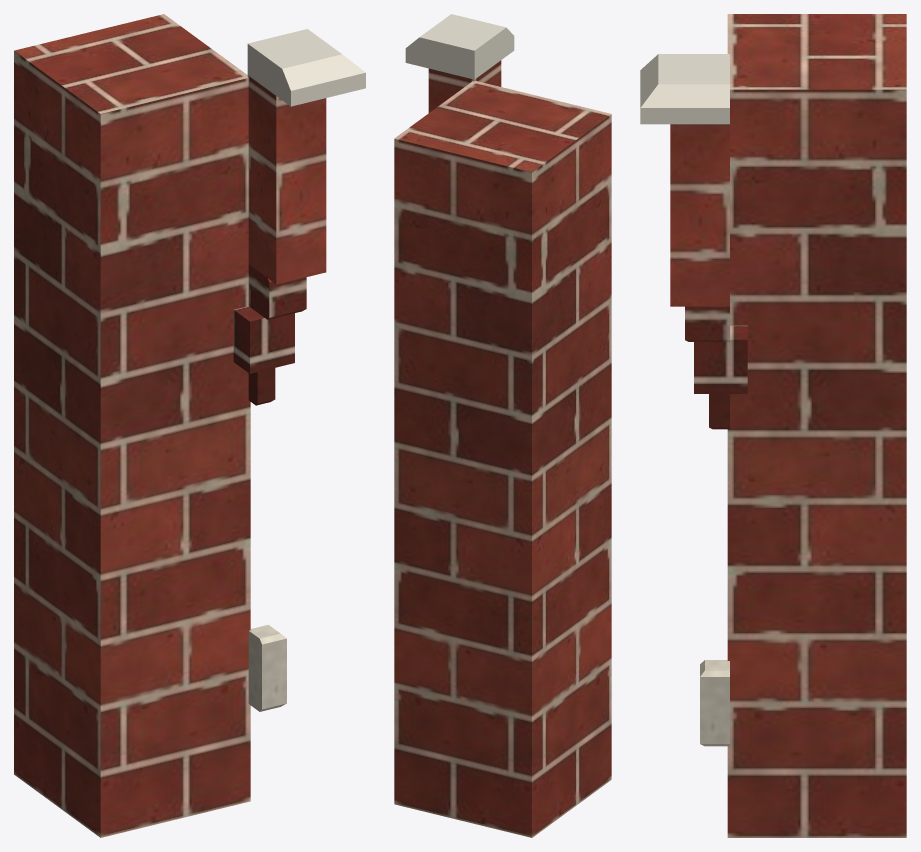
The model's file is back_corner_p.glb.
3 renders of one model, left to right at view 1: azimuth 30°, elevation 25°; view 2: azimuth 150°, elevation 25°; view 3: azimuth 270°, elevation 25°, orthographic. The views are drawn at different scales.
Visible parts, largest first — view 1: back_corner_p_brick, back_corner_p_brick2, back_corner_p_coping, back_corner_p_trim; view 2: back_corner_p_brick, back_corner_p_coping; view 3: back_corner_p_brick, back_corner_p_coping, back_corner_p_brick2, back_corner_p_trim.
Boxes of the visible parts, x1=… form: back_corner_p_brick: x1=14, y1=14, x2=326, y2=837; back_corner_p_brick2: x1=233, y1=264, x2=306, y2=405; back_corner_p_coping: x1=247, y1=29, x2=365, y2=106; back_corner_p_trim: x1=248, y1=624, x2=286, y2=711; back_corner_p_brick: x1=394, y1=60, x2=611, y2=837; back_corner_p_coping: x1=405, y1=14, x2=514, y2=79; back_corner_p_brick: x1=670, y1=14, x2=906, y2=837; back_corner_p_coping: x1=640, y1=54, x2=729, y2=124; back_corner_p_brick2: x1=685, y1=306, x2=747, y2=429; back_corner_p_trim: x1=700, y1=660, x2=729, y2=746.
Bounding box in the file's own units: 0.446 × 1.45 × 0.446.
4 materials, 3 textured.
